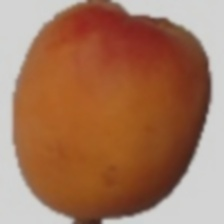apricot: (5, 36, 189, 175)
